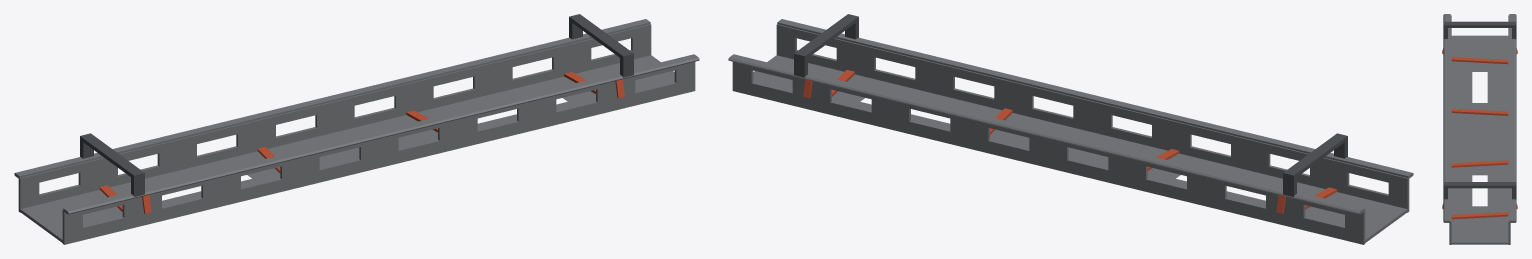
The model's file is under-desk-cable-tray-4ae73d.glb.
The picture shows the model from 3 angles, left to right: view 1: azimuth 30°, elevation 25°; view 2: azimuth 150°, elevation 25°; view 3: azimuth 270°, elevation 25°; orthographic projection. The views are drawn at different scales.
Visible parts, largest first — view 1: under-desk-cable-tray; view 2: under-desk-cable-tray; view 3: under-desk-cable-tray.
Part boxes in pixels (bbox=[...]): under-desk-cable-tray: bbox=[14, 14, 699, 244]; under-desk-cable-tray: bbox=[728, 14, 1413, 244]; under-desk-cable-tray: bbox=[1442, 14, 1517, 244].
Bounding box in the file's own units: 1.6 × 0.137 × 0.2472.
